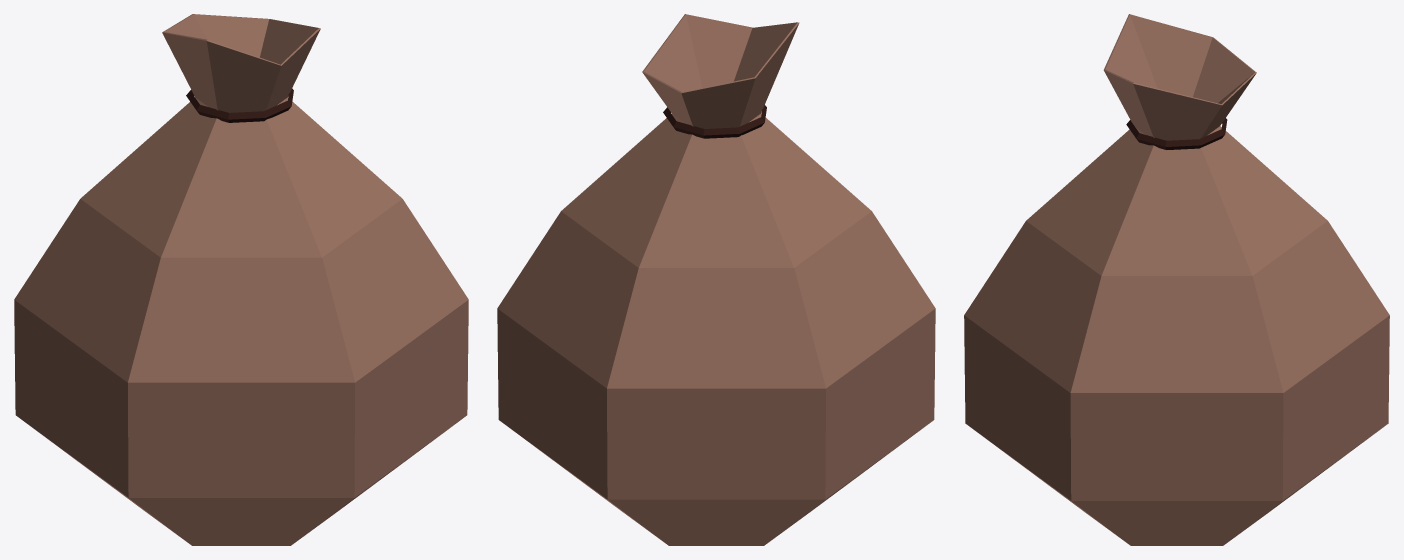
Rendered from Bag.fbx.
The picture shows the model from 3 angles, left to right: view 1: azimuth 30°, elevation 25°; view 2: azimuth 150°, elevation 25°; view 3: azimuth 270°, elevation 25°; orthographic projection. The views are drawn at different scales.
Visible parts, largest first — view 1: Bag, Thing; view 2: Bag, Thing; view 3: Bag, Thing.
Boxes of the visible parts, left/top/right/bottom form: Bag: left=14, top=14, right=468, bottom=545; Thing: left=186, top=88, right=293, bottom=122; Bag: left=497, top=14, right=935, bottom=545; Thing: left=663, top=105, right=766, bottom=138; Bag: left=964, top=14, right=1389, bottom=545; Thing: left=1126, top=118, right=1227, bottom=149.
Bounding box in the file's own units: 109 × 154 × 126.
